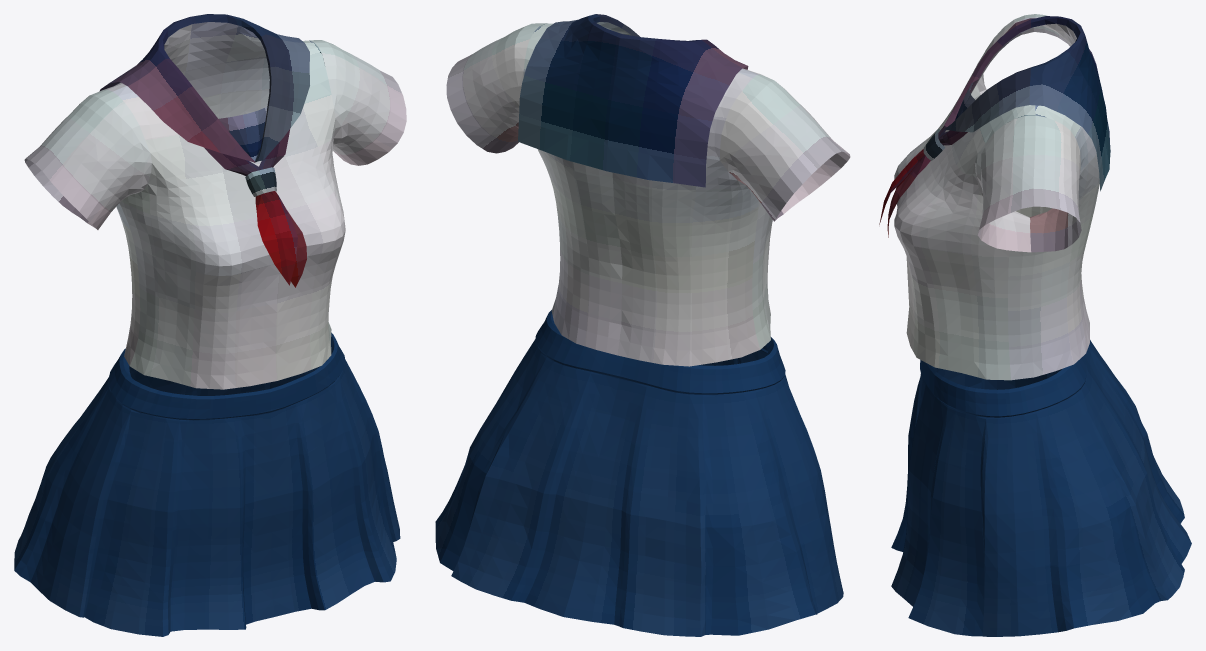
Rendered from femaleDress1.glb.
3 renders of one model, left to right at view 1: azimuth 30°, elevation 25°; view 2: azimuth 150°, elevation 25°; view 3: azimuth 270°, elevation 25°, orthographic. The views are drawn at different scales.
Visible parts, largest first — view 1: Buffer Object (×2); view 2: Buffer Object (×2); view 3: Buffer Object (×2).
Part boxes in pixels (x1,y1,x2,y2): Buffer Object (×2): (14,14,406,636); Buffer Object (×2): (435,14,850,636); Buffer Object (×2): (879,14,1191,636).
Bounding box in the file's own units: 0.596 × 0.8535 × 0.4484.
Materials: 2 (2 with a texture image).
